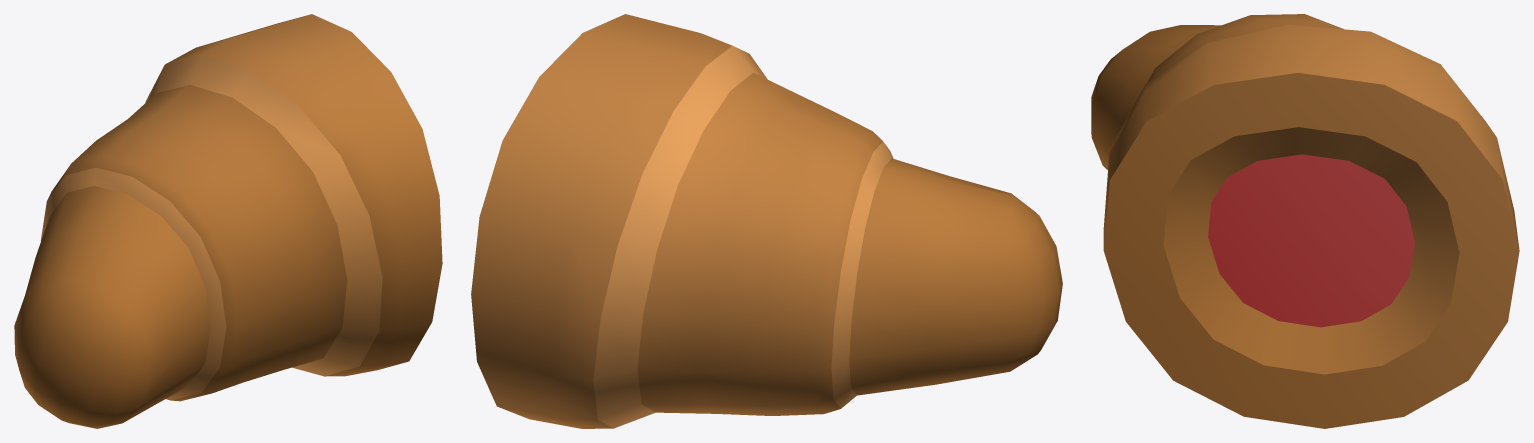
File: Croissant Red_Half_1.fbx
3 views of the same model, side by side, from view 1: azimuth 30°, elevation 25°; view 2: azimuth 150°, elevation 25°; view 3: azimuth 270°, elevation 25° (orthographic). The views are drawn at different scales.
Visible parts, largest first — view 1: Croissant Red_Half_1; view 2: Croissant Red_Half_1; view 3: Croissant Red_Half_1.
Part boxes in pixels (<box>): Croissant Red_Half_1: <box>14,14,442,428</box>; Croissant Red_Half_1: <box>471,14,1062,428</box>; Croissant Red_Half_1: <box>1091,14,1519,428</box>.
Bounding box in the file's own units: 0.0876 × 0.0733 × 0.0799.
